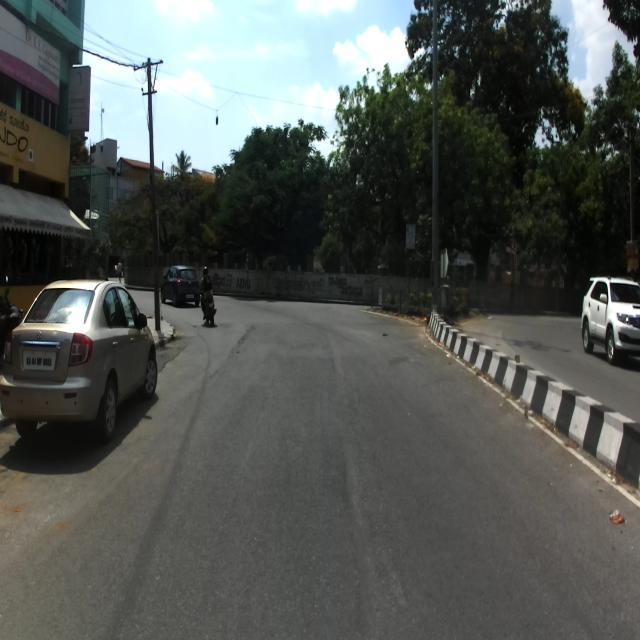car ahead at: (15, 274, 159, 446)
electric pole ahead at: (136, 48, 171, 295)
